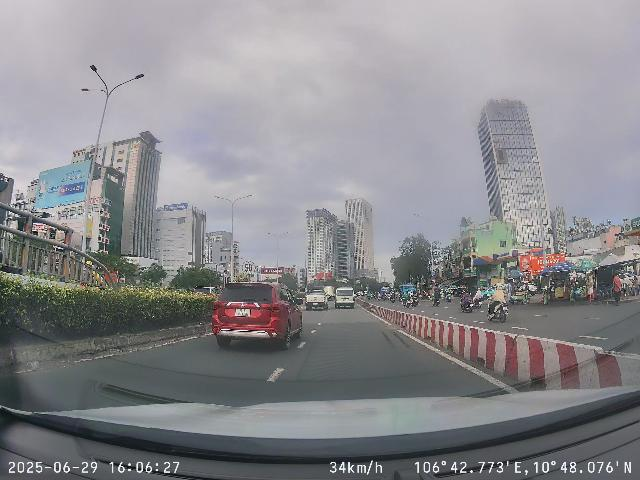134-het-han-che-toc-do-toi-da: (242, 260, 255, 274)
